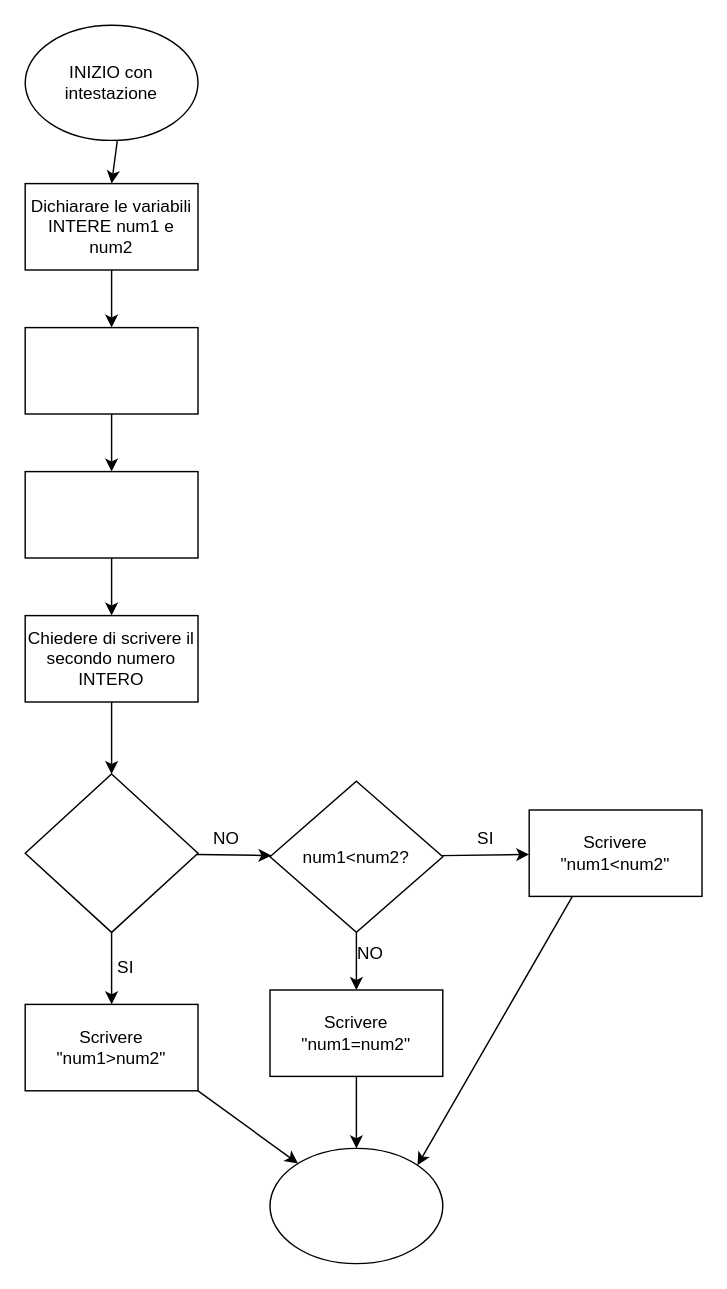
Some shapes in this 727 by 1289 pixel diagram are drawn without their labels. The shapes that lost their labels are listed below. From the top down, each one's centre as x and y in pixels, then its label:
[111,370]: Chiedere al cliente di scrivere il primo numero INTERO
[111,514]: Chiedere di scrivere il primo numero INTERO
[111,852]: num1>num2?
[356,1205]: FINE
